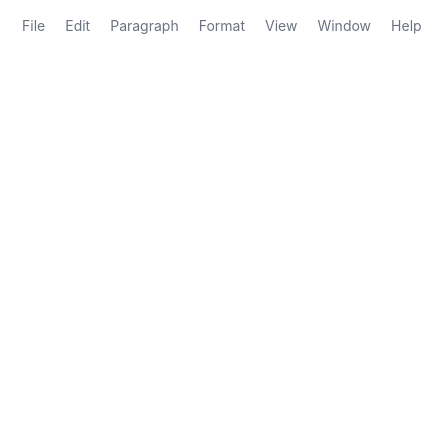
MenuBar › 再次点击同一菜单项关闭
The image size is (438, 431).
Click the button "File". click: (34, 26)
box: 12,12 -> 55,40
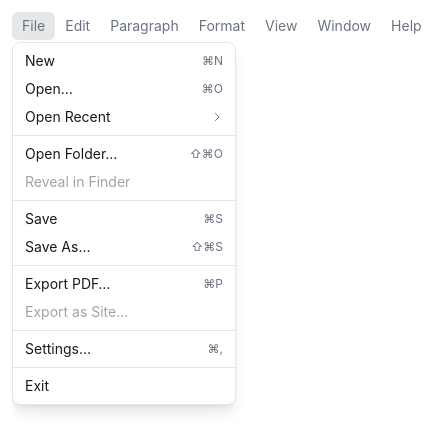
Click the button "File". click: (34, 26)
box: 12,12 -> 55,40
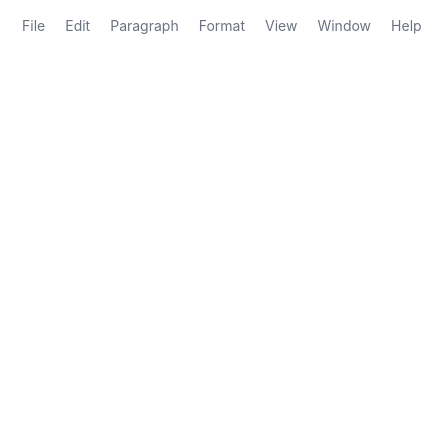
Now the menu is gone
